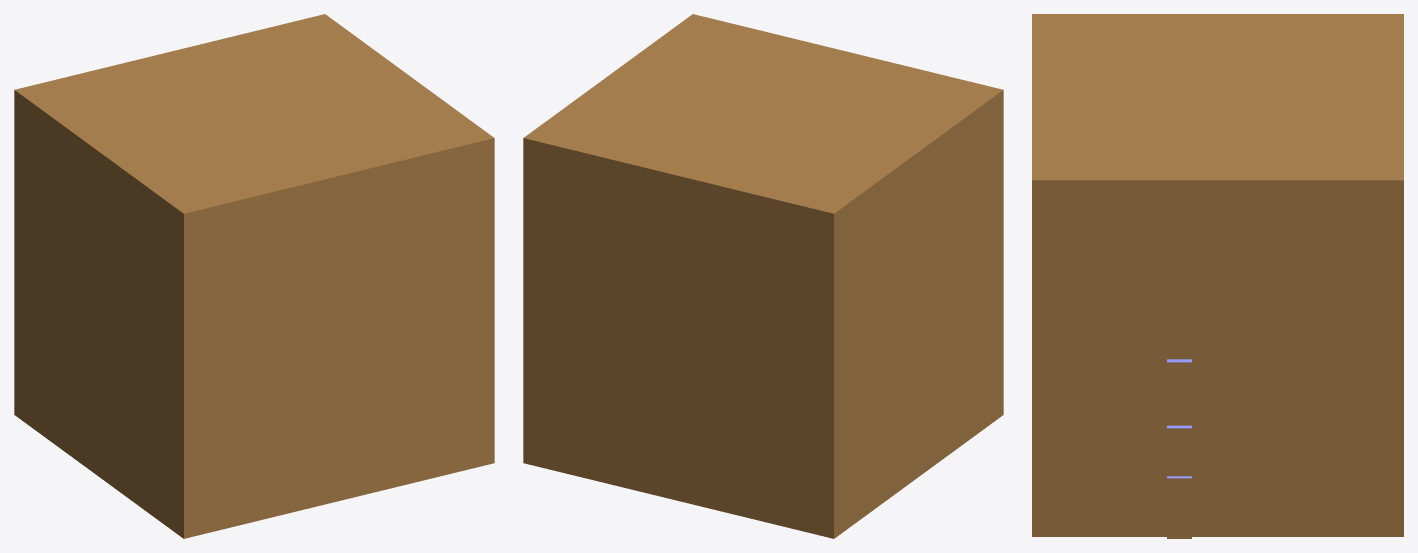
The model's file is map3.glb.
3 renders of one model, left to right at view 1: azimuth 30°, elevation 25°; view 2: azimuth 150°, elevation 25°; view 3: azimuth 270°, elevation 25°, orthographic. The views are drawn at different scales.
Visible parts, largest first — view 1: Cube; view 2: Cube; view 3: Cube, wall_1_.
Part boxes in pixels (bbox=[...]): Cube: bbox=[14, 14, 494, 538]; Cube: bbox=[523, 14, 1003, 538]; Cube: bbox=[1032, 14, 1403, 536]; wall_1_: bbox=[1167, 359, 1191, 538].
Size of what is drawn, in the model's own units: 31.81 by 31.96 by 30.04.
